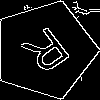R: (19, 25, 79, 84)
